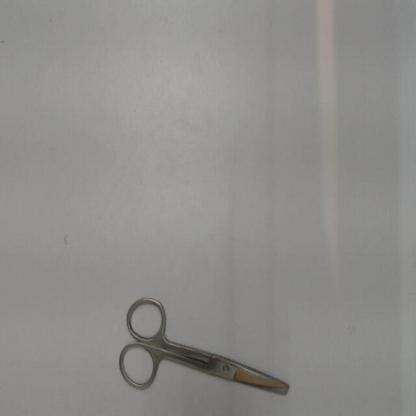Dressing Scissors: (110, 287, 300, 405)
